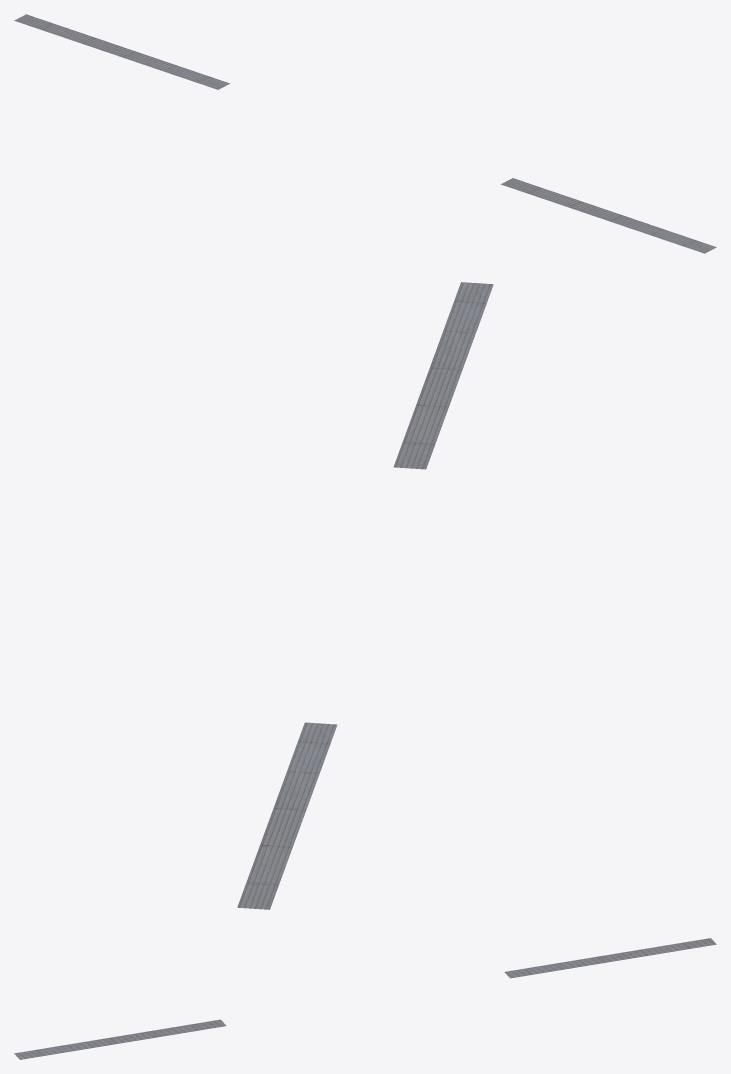
Rendered from AM_ribbed_begin_A.FBX.
The picture shows the model from 3 angles, top to bottom: view 1: azimuth 30°, elevation 25°; view 2: azimuth 150°, elevation 25°; view 3: azimuth 270°, elevation 25°; orthographic projection. The views are drawn at different scales.
Visible parts, largest first — view 1: ribbed_A, ribbed_A006; view 2: ribbed_A, ribbed_A006; view 3: ribbed_A, ribbed_A006.
Part boxes in pixels (x1,y1,x2,y2): ribbed_A: (501,178,716,253); ribbed_A006: (14,14,229,89); ribbed_A: (393,282,493,469); ribbed_A006: (237,722,337,909); ribbed_A: (14,1019,226,1059); ribbed_A006: (504,938,716,978).
Bounding box in the file's own units: 523 × 7.8e-14 × 1274.
Materials: 1 (1 with a texture image).
